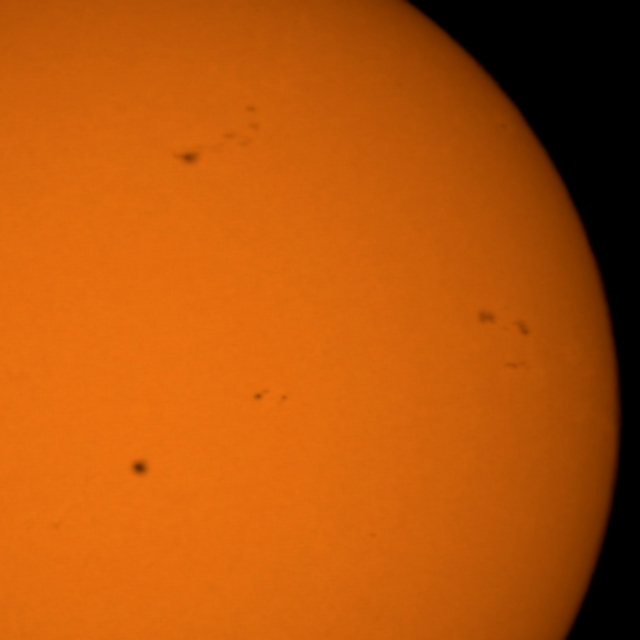sunspot: (477, 308, 533, 339), (220, 119, 263, 153), (250, 386, 290, 406), (171, 147, 203, 170), (242, 102, 262, 134), (127, 456, 152, 481), (509, 316, 533, 340), (474, 307, 500, 328), (500, 358, 532, 374), (367, 529, 379, 541)
